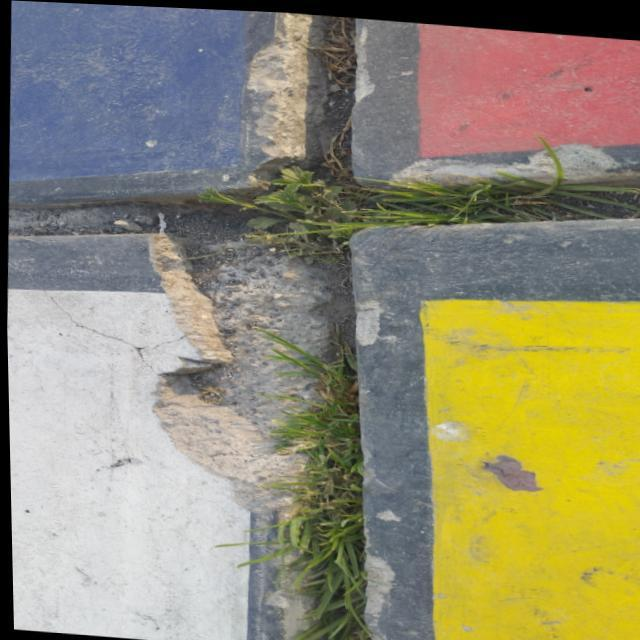hole: (137, 220, 366, 512)
